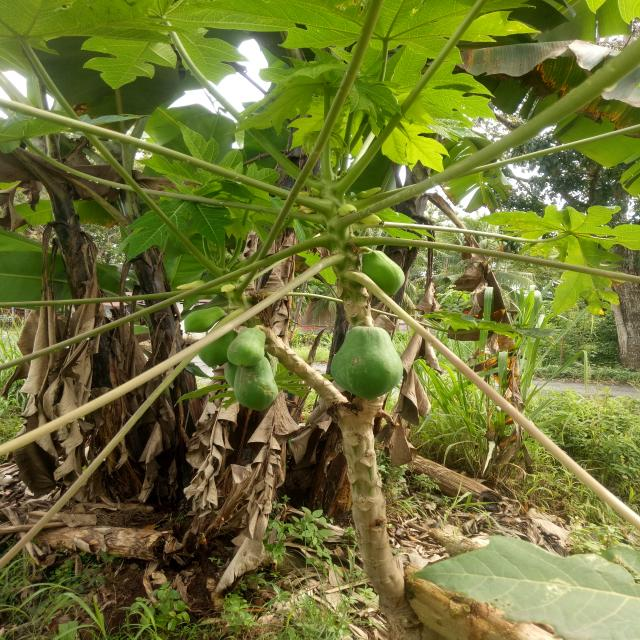Pepaya unrippen: (327, 328, 404, 392), (365, 246, 413, 305), (230, 369, 280, 415), (228, 330, 266, 366)
